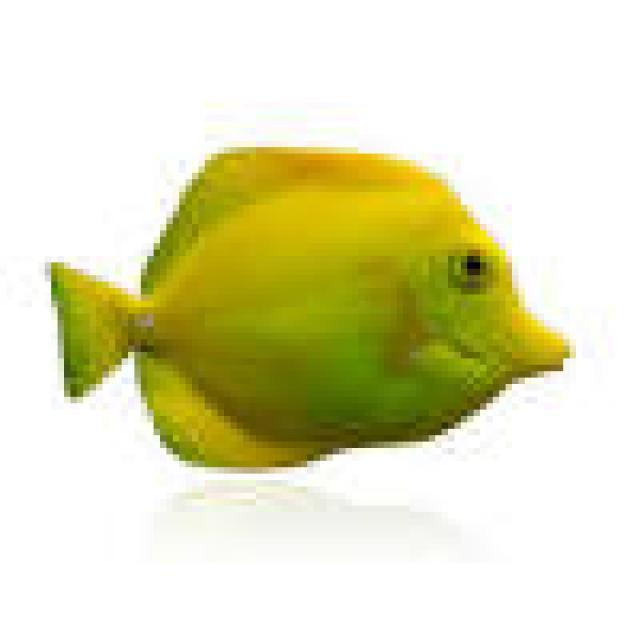YellowTang: (34, 131, 593, 492)
